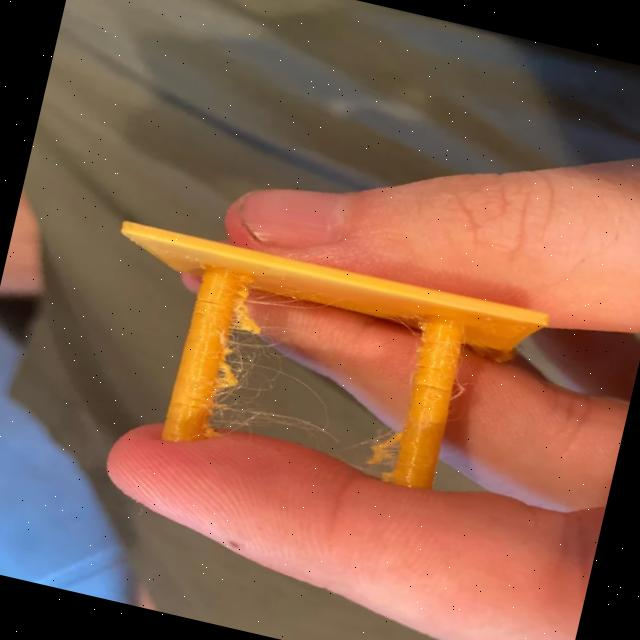stringing: (216, 287, 341, 445), (347, 423, 399, 490)
